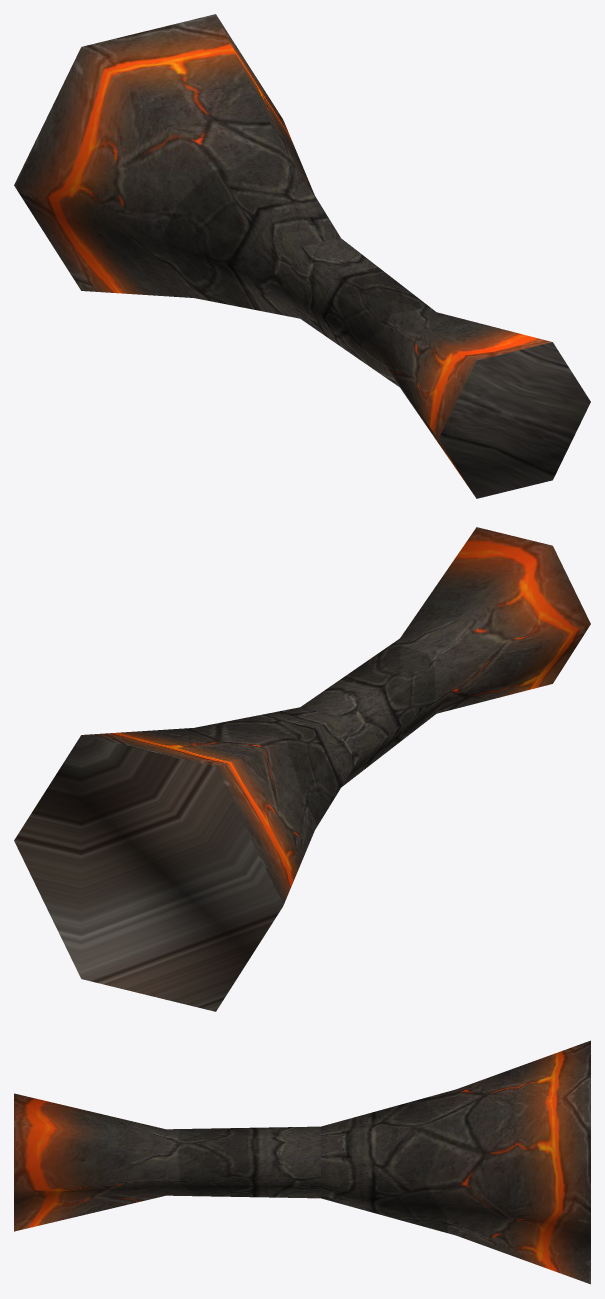
The model's file is rock-pillar_13.obj.
3 views of the same model, one above another, from view 1: azimuth 30°, elevation 25°; view 2: azimuth 150°, elevation 25°; view 3: azimuth 270°, elevation 25° (orthographic). The views are drawn at different scales.
Visible parts, largest first — view 1: (null); view 2: (null); view 3: (null).
Part boxes in pixels (x1=…): (null): x1=14, y1=14, x2=590, y2=498; (null): x1=14, y1=527, x2=590, y2=1011; (null): x1=14, y1=1040, x2=590, y2=1284.
Bounding box in the file's own units: 4.06 × 3.52 × 9.57.
